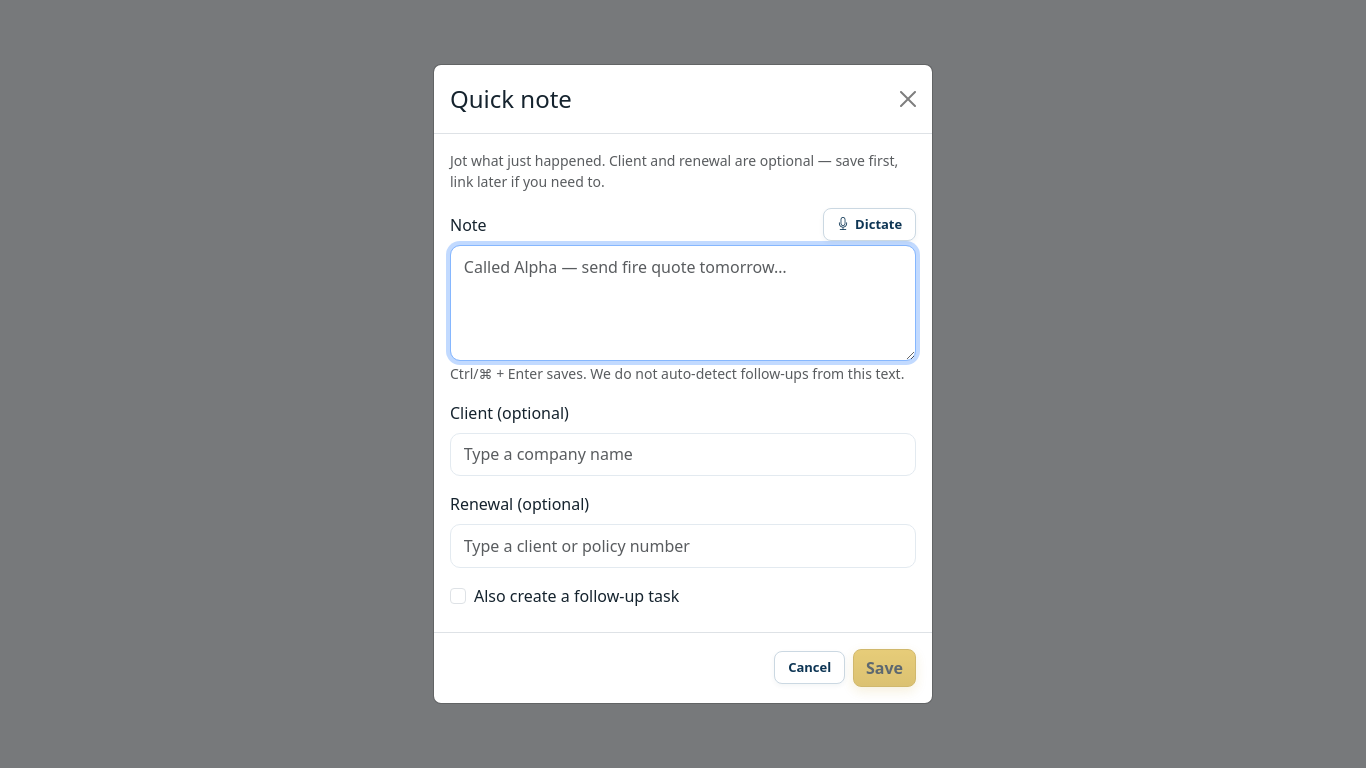
Test: QuickNoteModal › saves a free-text note without extra required fields and stays put
Expected: the dialog shows "Quick note", [450, 82, 572, 115]
Type "Called, send quote tomorrow." into the text box labelled "Note" at (683, 303), box [450, 245, 916, 361]
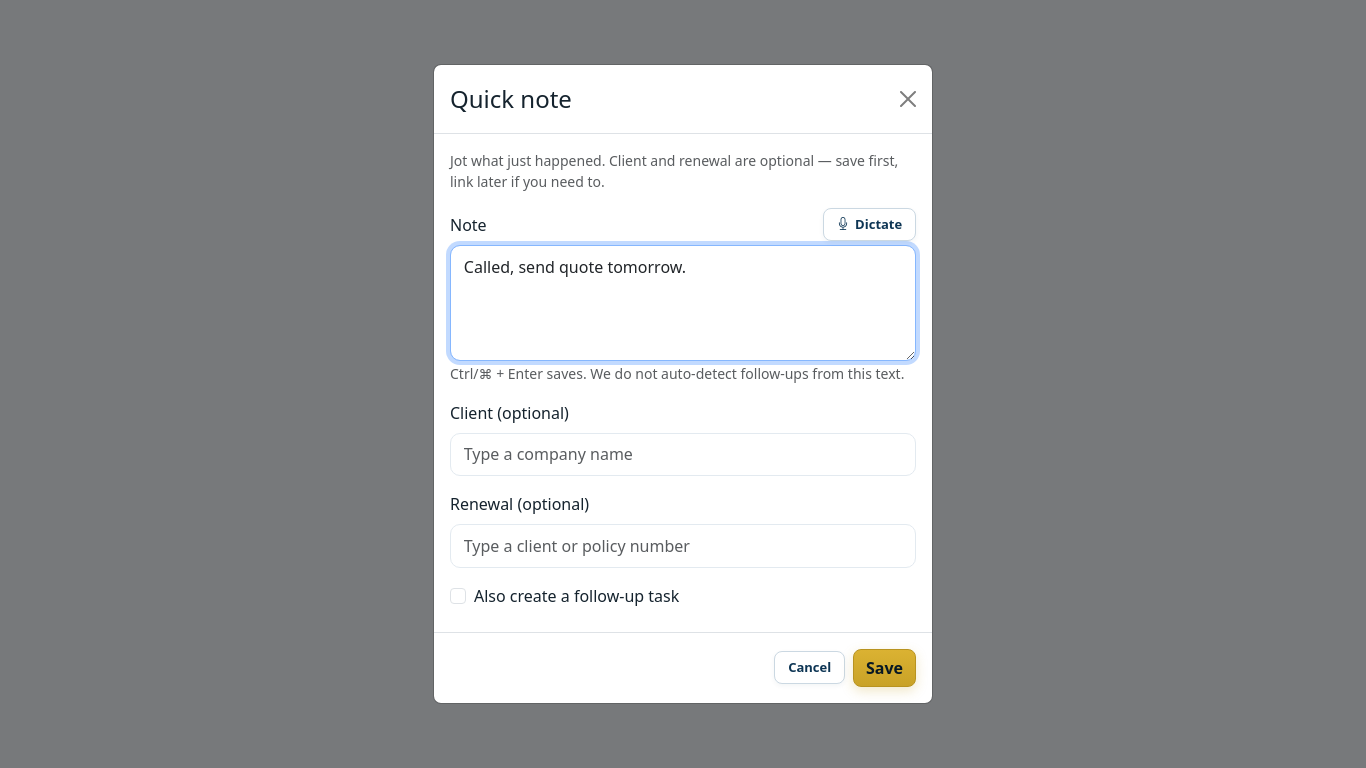
Click the button "Save" at (884, 668), box [853, 649, 916, 687]
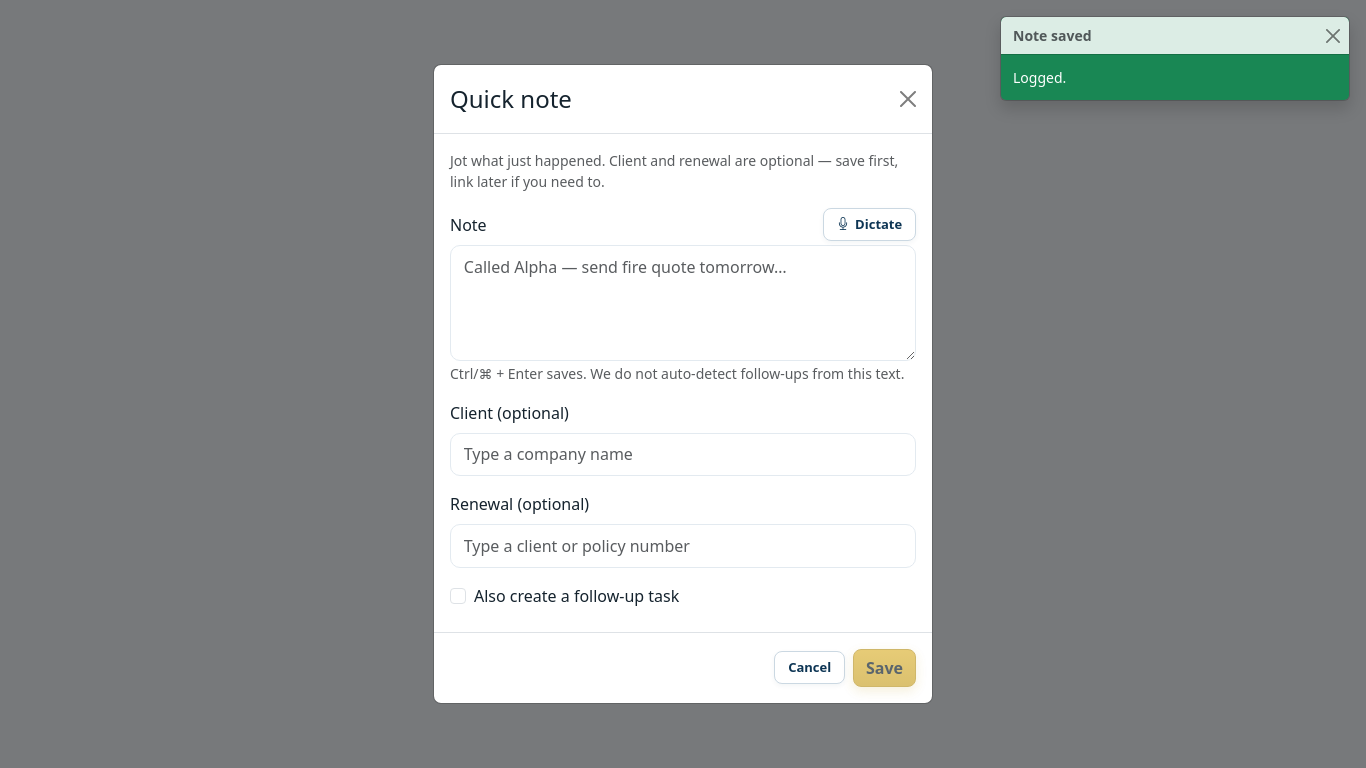
Expected: the text "Note saved" is shown, [1013, 25, 1092, 46]
